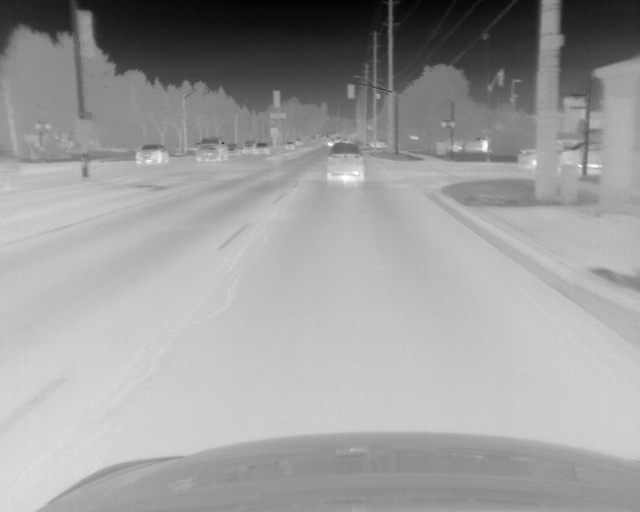car: (326, 144, 364, 183), (561, 142, 605, 166), (133, 143, 169, 166), (196, 137, 227, 161), (519, 149, 535, 167), (244, 140, 256, 153)
